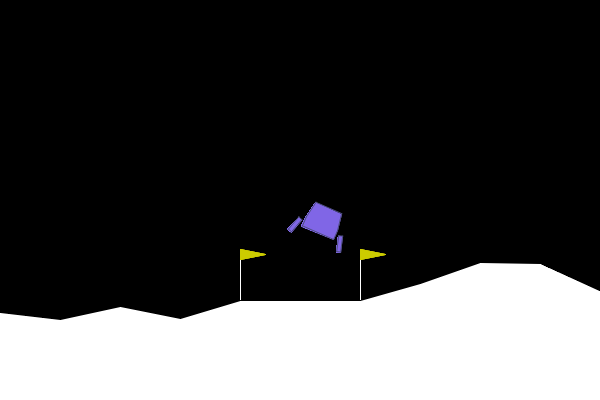lander: (286, 194, 357, 255)
